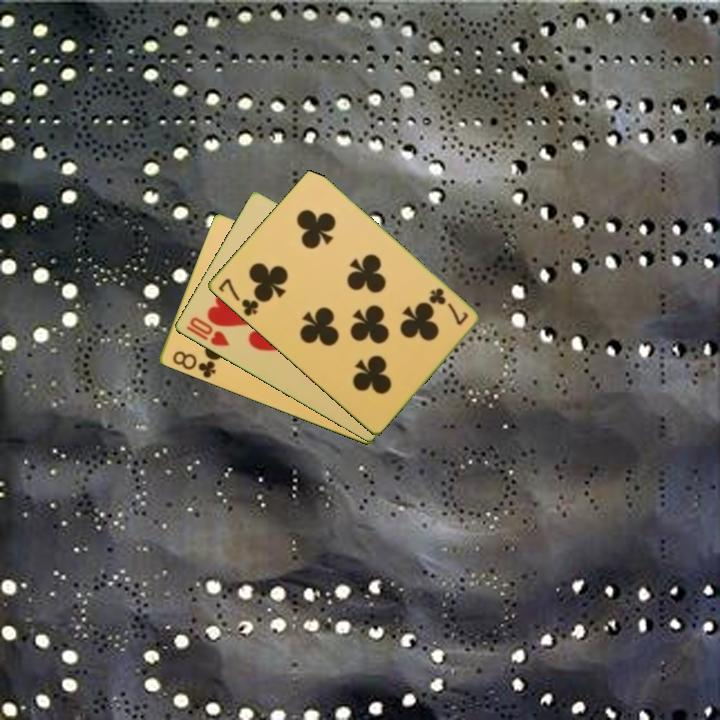10h: (182, 313, 232, 349)
7c: (214, 275, 261, 319), (425, 284, 471, 328)
8c: (168, 347, 219, 381)
